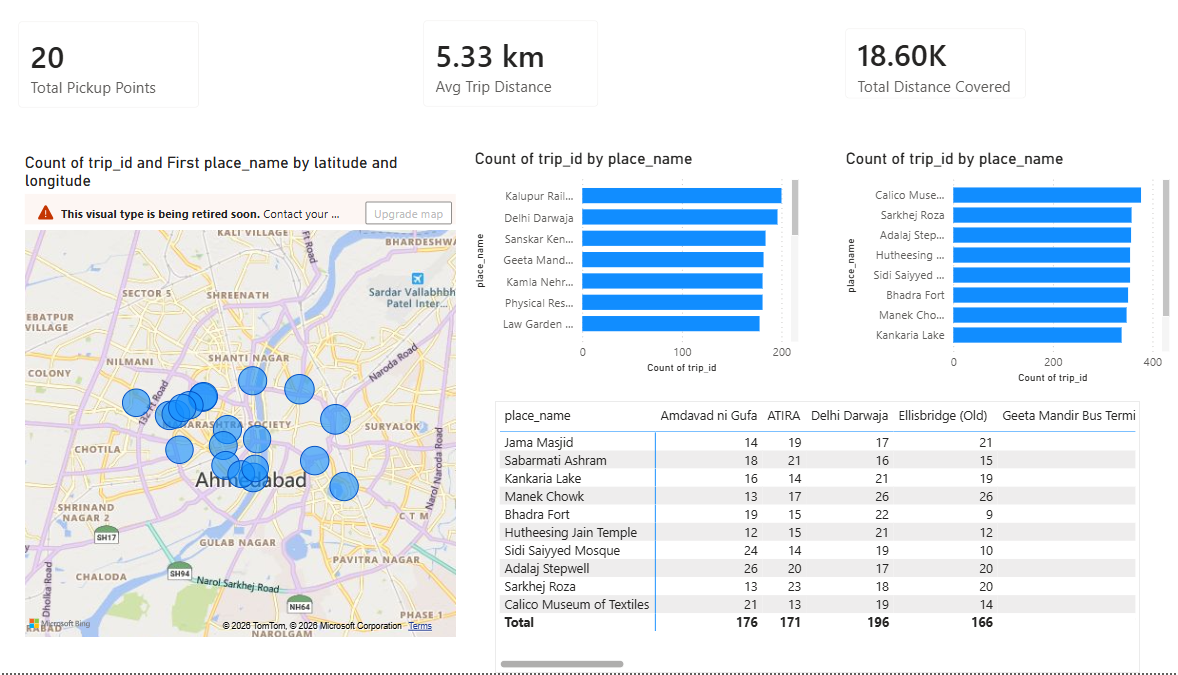

The dashboard page shown, as its layout file describes it:
{"tool":"powerbi","page":{"name":"City & Location Analytics","canvas":[1280,720],"ordinal":4},"visuals":[{"type":"cardVisual","fields":{"Data":["dim_pickup_location.Total Pickup Points"]},"box":[27.1,17.3,224.4,125.7],"z":0},{"type":"cardVisual","fields":{"Data":["fact_trips.Avg Trip Distance"]},"box":[453.4,17.2,218.7,125.9],"z":1000},{"type":"cardVisual","fields":{"Data":["fact_trips.Total Distance Covered"]},"box":[896.5,25.2,224.4,108.8],"z":2000},{"type":"map","fields":{"Size":["CountNonNull(fact_trips.trip_id)"],"X":["dim_pickup_location.longitude"],"Y":["dim_pickup_location.latitude"]},"box":[46,173.7,462.8,513.8],"z":3000},{"type":"barChart","fields":{"Category":["dim_pickup_location.place_name"],"Y":["CountNonNull(fact_trips.trip_id)"]},"box":[518.6,169.4,350.3,240.4],"z":4000},{"type":"barChart","fields":{"Category":["dim_destination_location.place_name"],"Y":["CountNonNull(fact_trips.trip_id)"]},"box":[909.1,169.4,350.3,250.7],"z":5000},{"type":"pivotTable","fields":{"Columns":["dim_pickup_location.place_name"],"Rows":["dim_destination_location.place_name"],"Values":["Count(fact_trips.trip_id)"]},"box":[545,433.9,677.8,286.2],"z":6000}]}

Visuals, with their boxes in screenshot pixels (x1, y1, x2, y2), scaled from the page's 1280x720 canvas onto the 1178x675 screenshot:
cardVisual - dim_pickup_location.Total Pickup Points: <bbox>25, 16, 231, 134</bbox>
cardVisual - fact_trips.Avg Trip Distance: <bbox>417, 16, 619, 134</bbox>
cardVisual - fact_trips.Total Distance Covered: <bbox>825, 24, 1032, 126</bbox>
map - CountNonNull(fact_trips.trip_id) x dim_pickup_location.longitude: <bbox>42, 163, 468, 645</bbox>
barChart - dim_pickup_location.place_name x CountNonNull(fact_trips.trip_id): <bbox>477, 159, 800, 384</bbox>
barChart - dim_destination_location.place_name x CountNonNull(fact_trips.trip_id): <bbox>837, 159, 1159, 394</bbox>
pivotTable - dim_pickup_location.place_name x dim_destination_location.place_name: <bbox>502, 407, 1125, 674</bbox>
